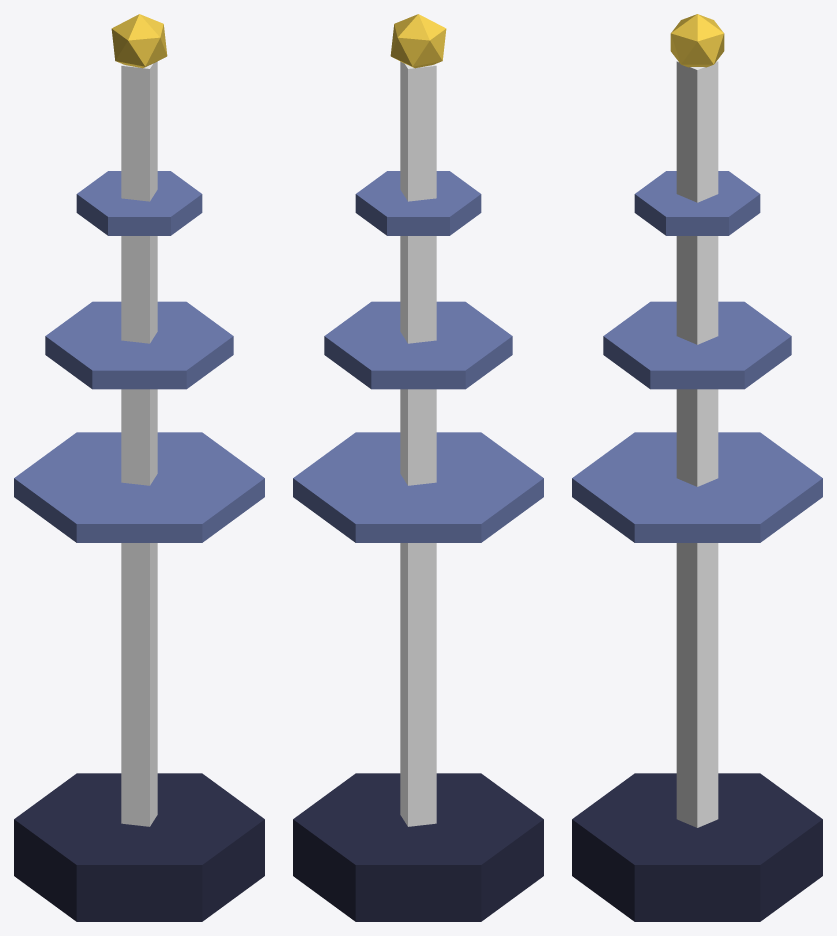
File: antenna-mast.glb
3 views of the same model, side by side, from view 1: azimuth 30°, elevation 25°; view 2: azimuth 150°, elevation 25°; view 3: azimuth 270°, elevation 25° (orthographic).
Visible parts, largest first — view 1: space-antenna-mast; view 2: space-antenna-mast; view 3: space-antenna-mast.
Boxes of the visible parts, box(x1,y1,x2,y2) form: space-antenna-mast: box(14, 14, 264, 921); space-antenna-mast: box(293, 14, 543, 921); space-antenna-mast: box(572, 14, 822, 921).
Bounding box in the file's own units: 0.2078 × 0.91 × 0.24.
